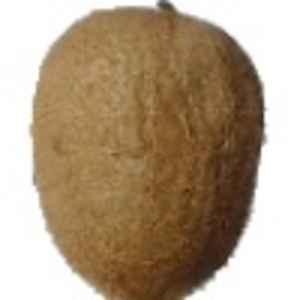kiwi: (28, 1, 267, 300)
